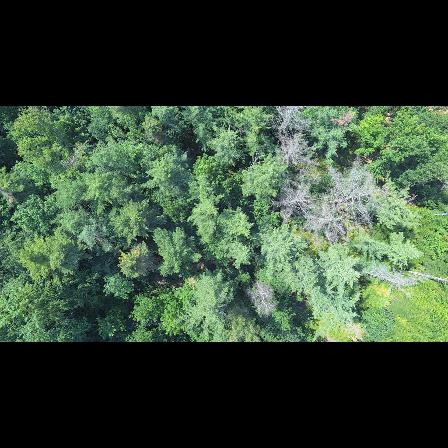Dead: (326, 170, 382, 211), (268, 175, 320, 217), (303, 200, 342, 242), (276, 128, 317, 165), (247, 275, 280, 315), (271, 106, 306, 139)
